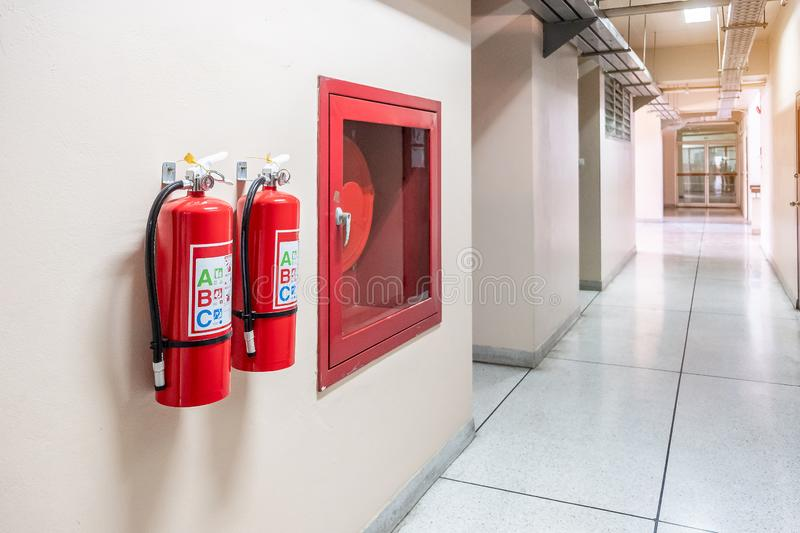fire_extinguisher: (145, 152, 235, 408), (231, 153, 300, 373)
